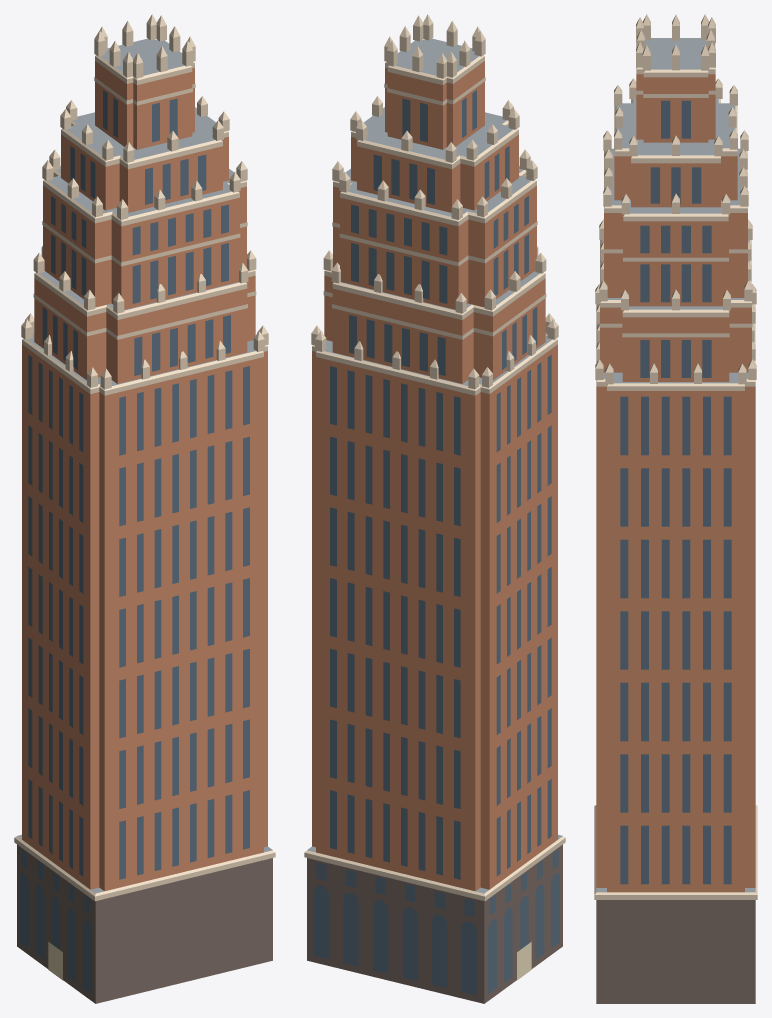
File: det-david-stott-building.glb
The picture shows the model from 3 angles, left to right: view 1: azimuth 30°, elevation 25°; view 2: azimuth 150°, elevation 25°; view 3: azimuth 270°, elevation 25°; orthographic projection.
Parts seen in each view (by area): view 1: David Stott Building; view 2: David Stott Building; view 3: David Stott Building.
Part boxes in pixels (x1,y1,x2,y2): David Stott Building: (14,14,275,1003); David Stott Building: (304,14,565,1003); David Stott Building: (594,14,757,1003).
Size of the model in its own units: 28.1 by 137 by 21.7.
